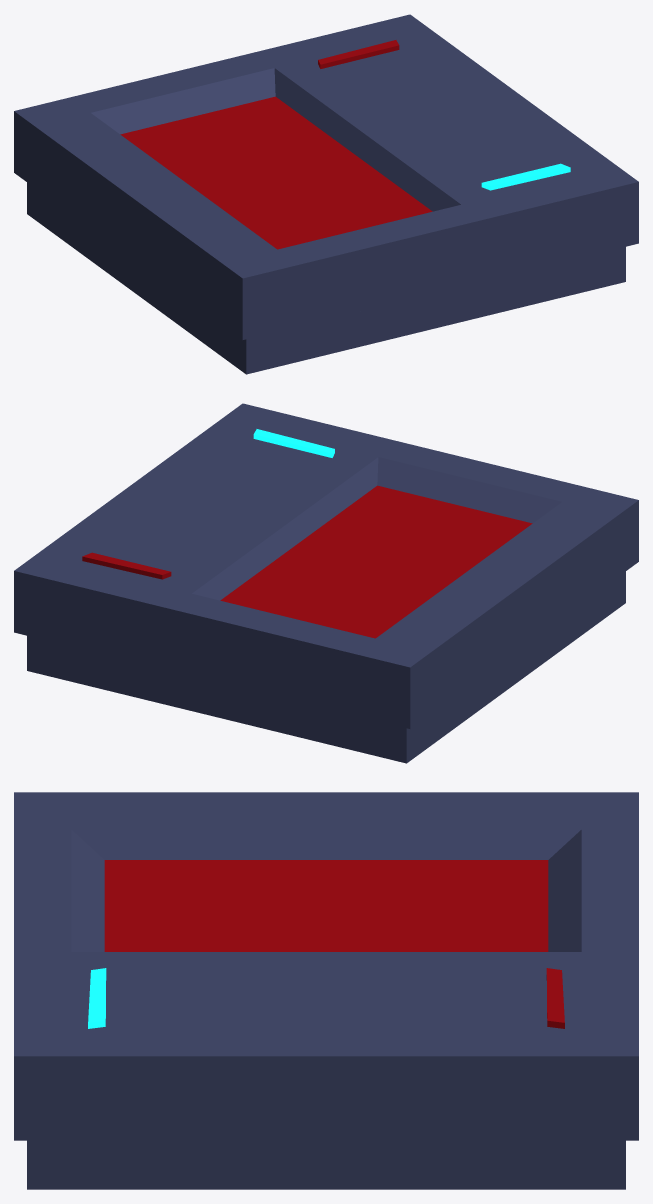
File: BaseModuleSwitch.fbx
3 views of the same model, one above another, from view 1: azimuth 30°, elevation 25°; view 2: azimuth 150°, elevation 25°; view 3: azimuth 270°, elevation 25° (orthographic). The views are drawn at different scales.
Parts seen in each view (by area): view 1: BaseModuleSwitch; view 2: BaseModuleSwitch; view 3: BaseModuleSwitch.
Boxes of the visible parts, x1,y1,x2,y2 form: BaseModuleSwitch: (14, 14, 638, 374); BaseModuleSwitch: (14, 403, 638, 763); BaseModuleSwitch: (14, 792, 638, 1189).
Size of the model in its own units: 23.61 by 6.04 by 23.61.
